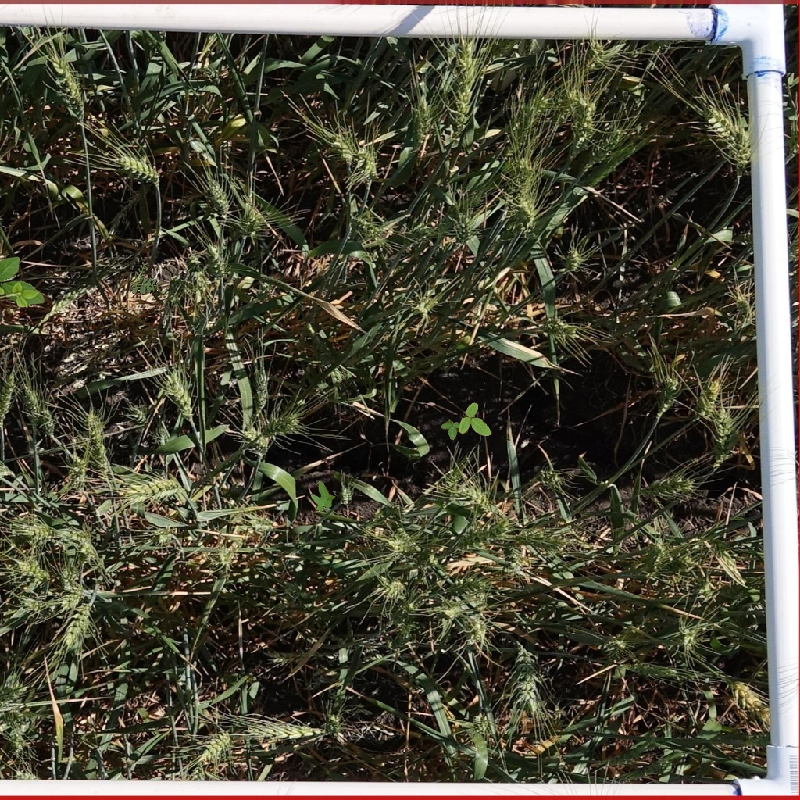spikelet: (702, 102, 752, 163), (47, 53, 88, 115), (454, 27, 476, 141), (726, 681, 778, 728), (508, 644, 545, 710), (246, 716, 325, 745), (120, 471, 185, 505), (501, 178, 540, 234), (20, 382, 57, 434), (61, 598, 97, 650), (161, 367, 197, 417), (709, 407, 739, 465), (113, 148, 162, 183), (453, 517, 510, 547), (402, 93, 433, 148), (566, 92, 599, 143), (200, 171, 235, 219), (586, 125, 627, 164), (445, 573, 493, 606), (448, 479, 495, 511), (199, 240, 233, 284), (8, 511, 54, 542), (196, 727, 234, 762), (647, 473, 695, 500), (384, 526, 424, 557), (696, 375, 723, 420), (79, 406, 108, 446), (264, 408, 304, 437), (1, 673, 28, 715), (455, 610, 489, 643), (652, 377, 681, 415), (669, 619, 702, 652), (724, 293, 755, 328), (12, 554, 48, 584), (542, 313, 580, 341), (557, 240, 588, 273), (351, 145, 379, 181), (534, 462, 566, 491), (64, 455, 90, 490), (330, 129, 358, 160), (1, 371, 17, 425), (123, 398, 152, 427), (375, 573, 408, 598), (241, 201, 267, 231), (48, 291, 78, 315), (246, 511, 276, 533)
weed: (438, 395, 501, 458), (1, 253, 46, 313), (126, 258, 170, 298), (302, 478, 339, 516)
